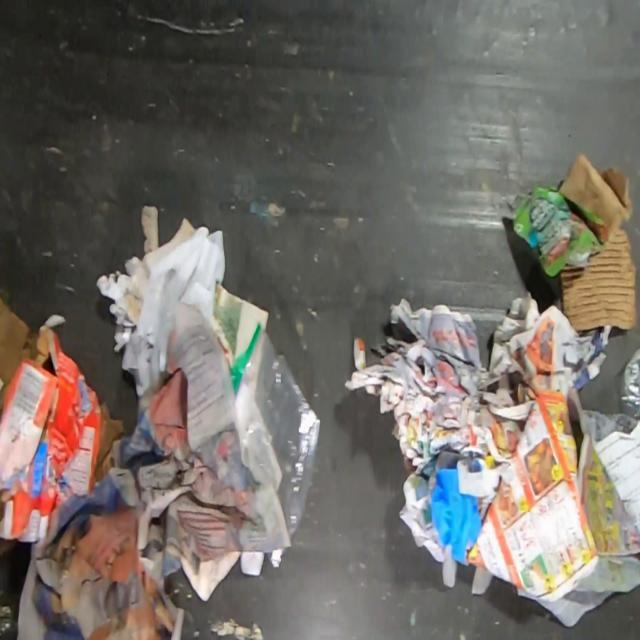cardboard: (0, 324, 103, 544), (512, 152, 634, 278), (560, 228, 638, 332), (0, 291, 37, 423), (94, 401, 127, 483)
soft_plastic: (229, 320, 322, 542), (619, 342, 640, 422), (265, 546, 290, 568)
